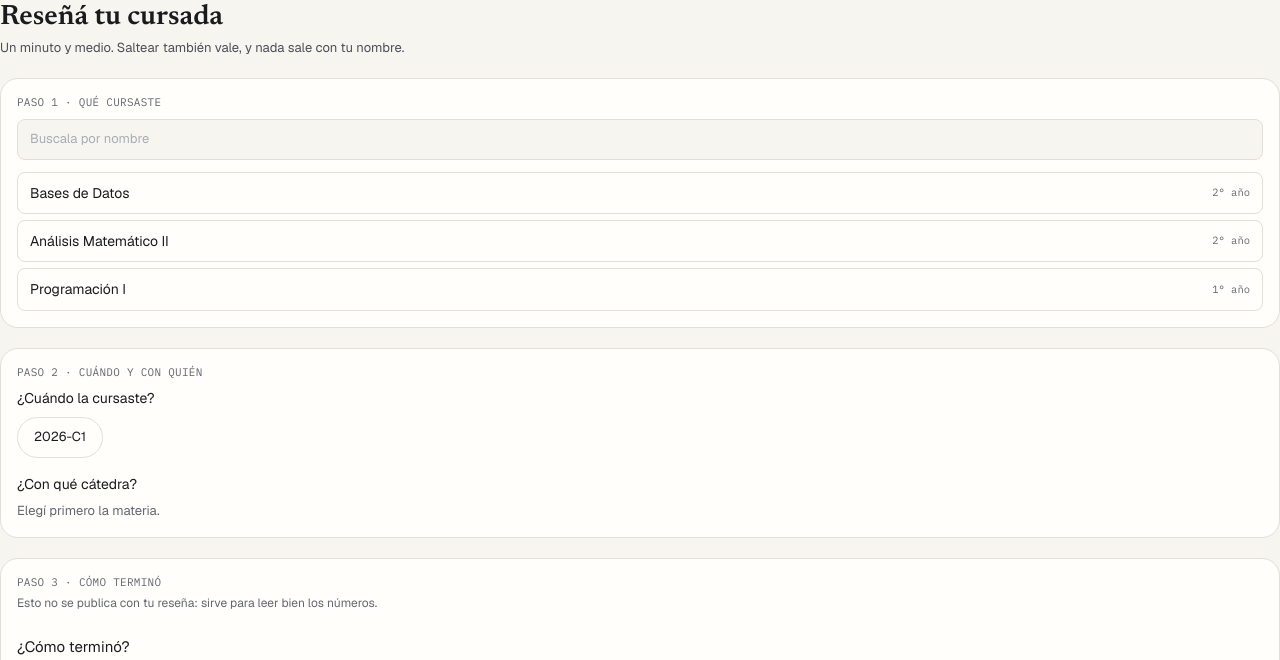
US-159: que ningún cruce me identifique › el contrato del paso 6 dice el piso de la cátedra elegida
Click the button "Análisis Matemático II 2° año".
click(99, 241)  # box [17,220,1263,262]
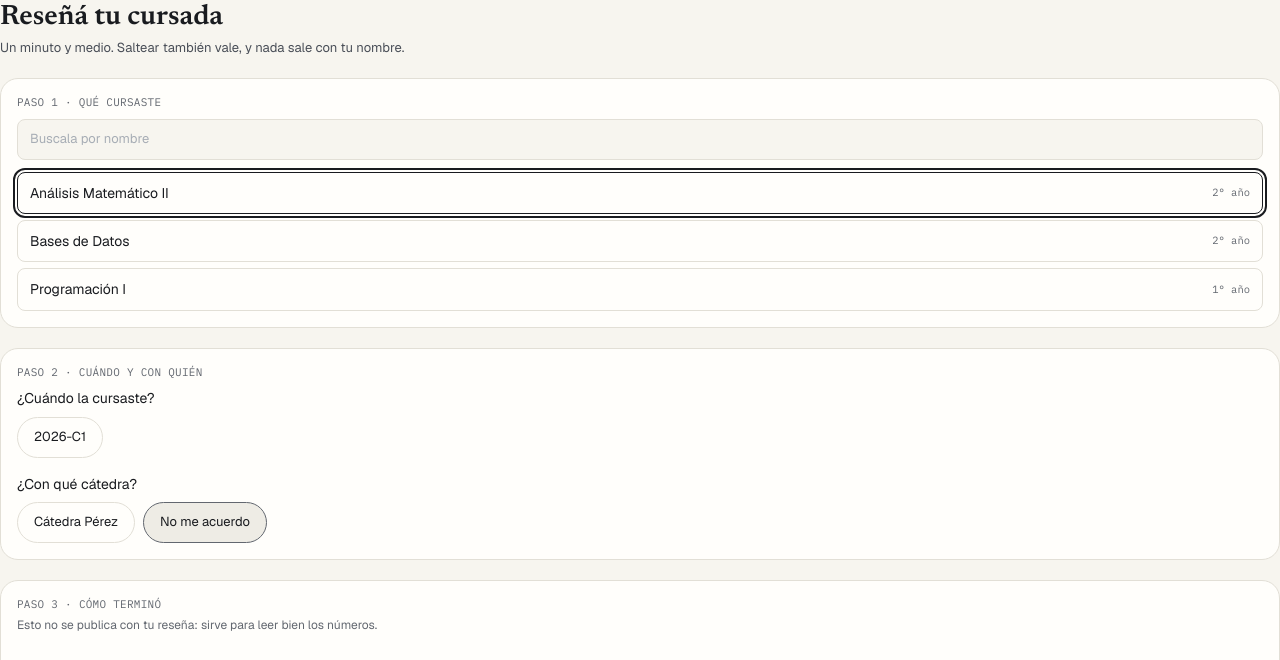
Click the button "Cátedra Pérez".
click(76, 522)  # box [17,502,135,543]
(page scrolled)
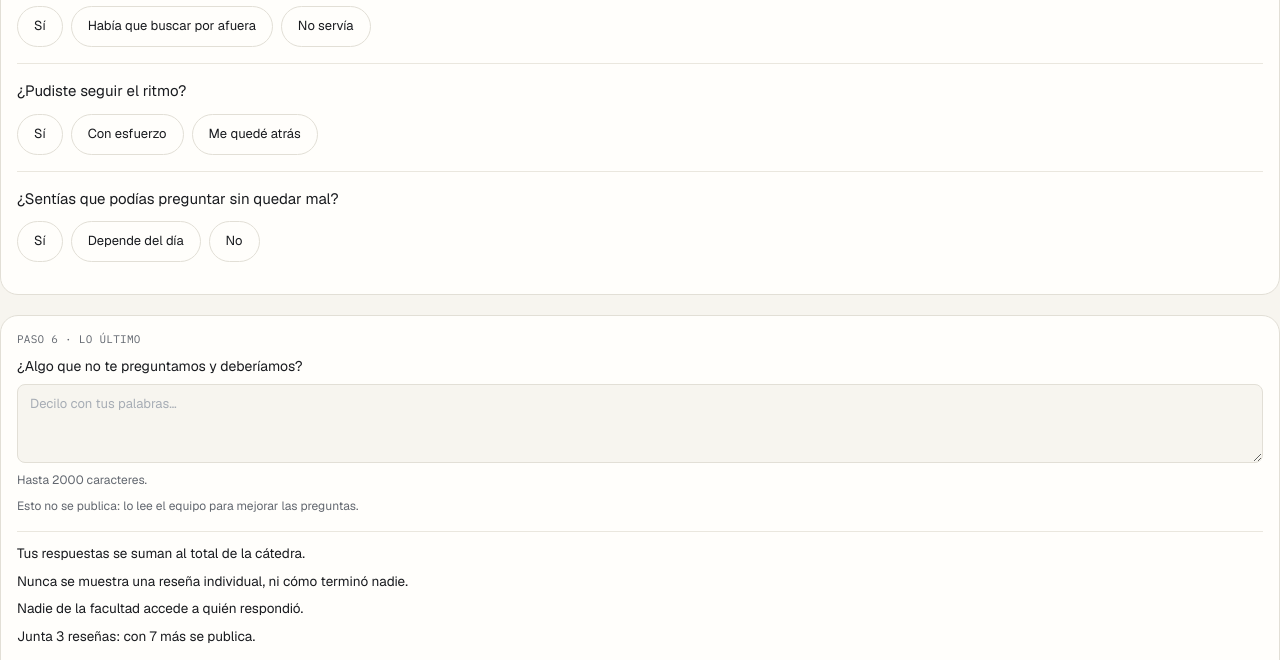
Expected: the list item "Tus respuestas se suman al total de la cátedra." is shown, [17,544,305,562]
Expected: the list item "Junta 3 reseñas: con 7 más se publica." is shown, [17,627,255,645]
